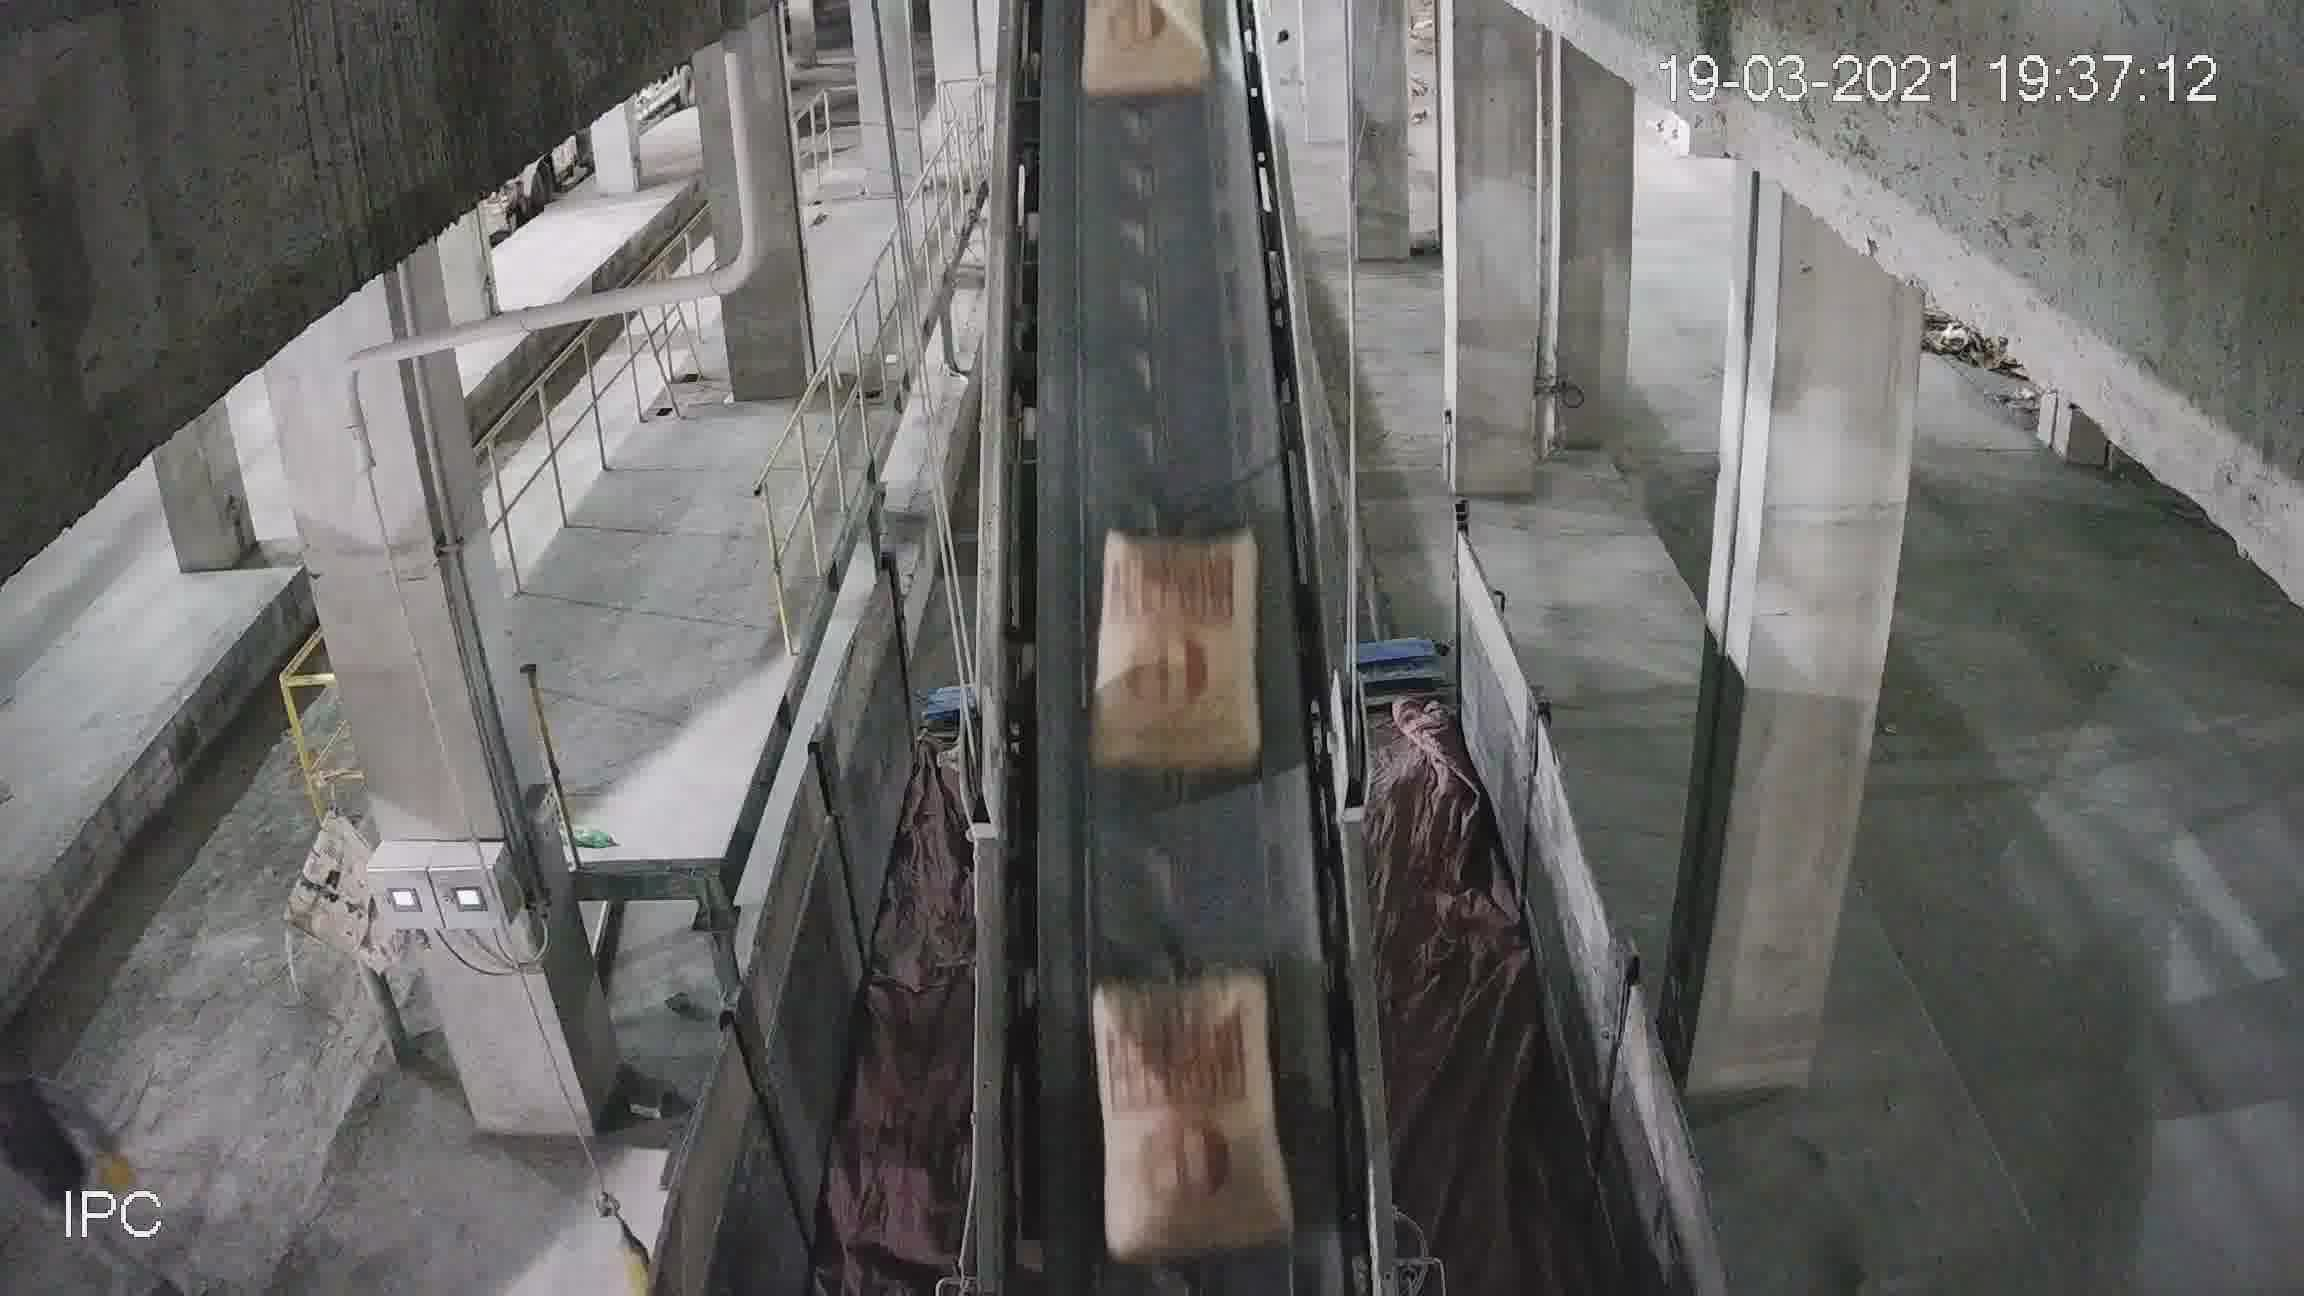bag: (1090, 540, 1268, 771), (1101, 970, 1264, 1184), (1081, 21, 1215, 92)
belt: (972, 2, 1358, 1105)
